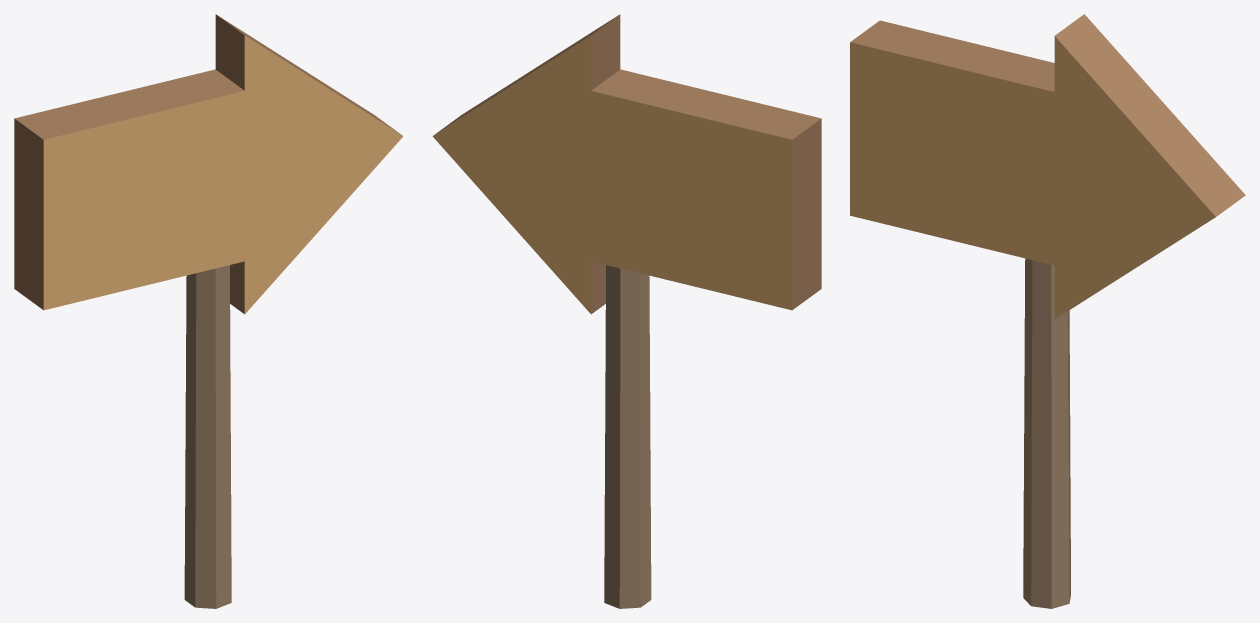
Rendered from arrow-sign.glb.
3 views of the same model, side by side, from view 1: azimuth 30°, elevation 25°; view 2: azimuth 150°, elevation 25°; view 3: azimuth 330°, elevation 25° (orthographic).
Parts seen in each view (by area): view 1: arrow-sign; view 2: arrow-sign; view 3: arrow-sign.
Boxes of the visible parts, bbox=[...] form: arrow-sign: bbox=[14, 14, 403, 608]; arrow-sign: bbox=[432, 14, 821, 608]; arrow-sign: bbox=[850, 14, 1245, 608].
Size of the model in its own units: 1.7 by 2.57 by 0.24.
